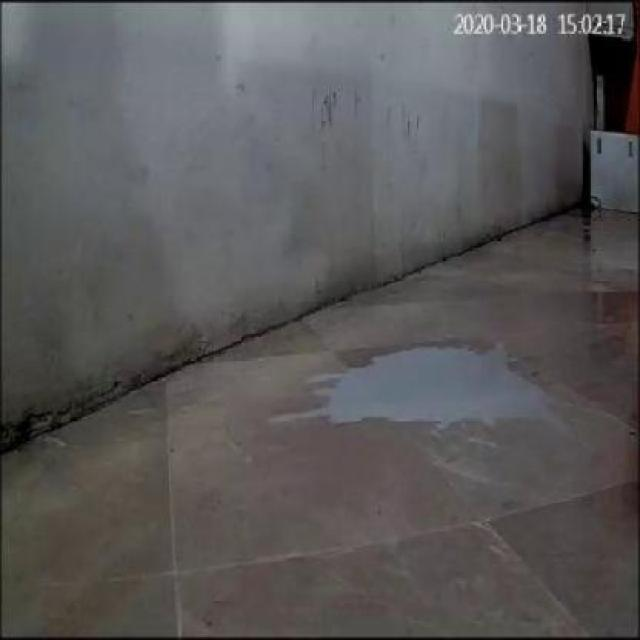spillage: (278, 344, 552, 428)
